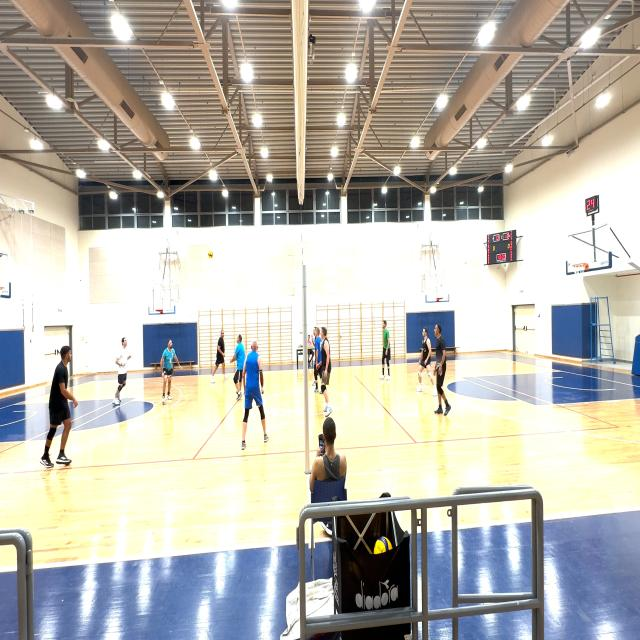volleyball: (373, 536, 393, 555), (208, 250, 213, 258)
